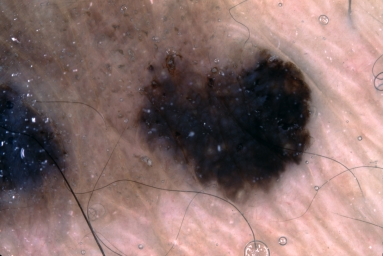seborrheic keratosis: (115, 35, 325, 201)
